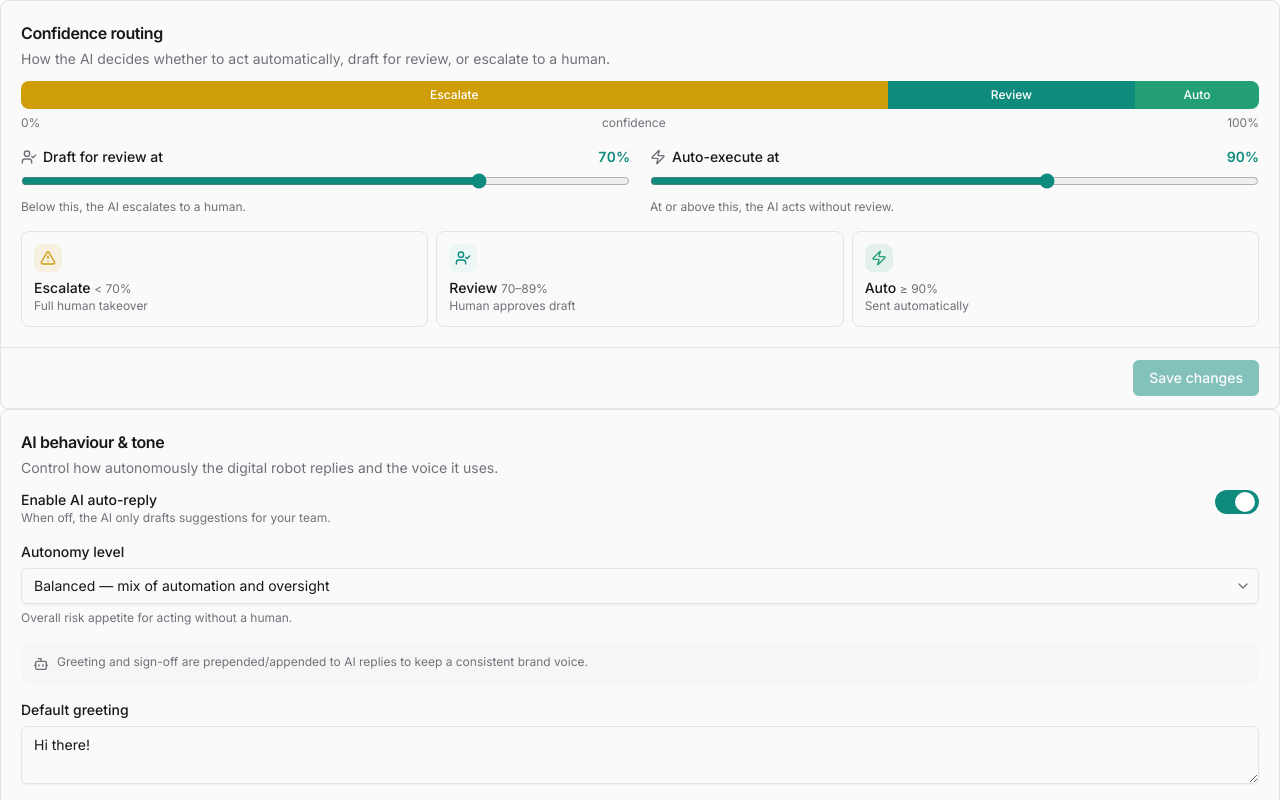
Test: AI behaviour and tone › keeps Save disabled until something changes
This screenshot has width=1280, height=800.
Click the switch. click: (1237, 502)
box: [1215, 490, 1259, 514]
(page scrolled)
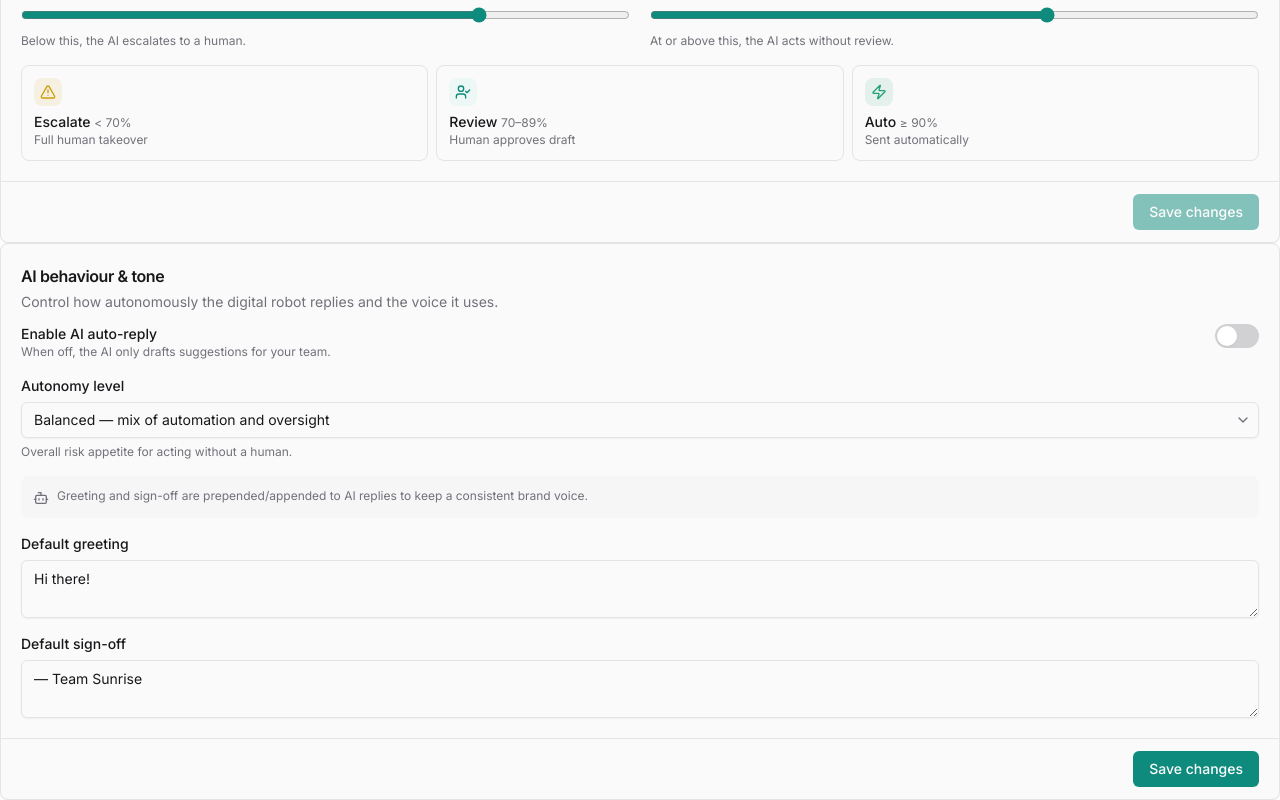
Expected: the 2nd button "Save changes" is enabled, [1133, 751, 1259, 787]
